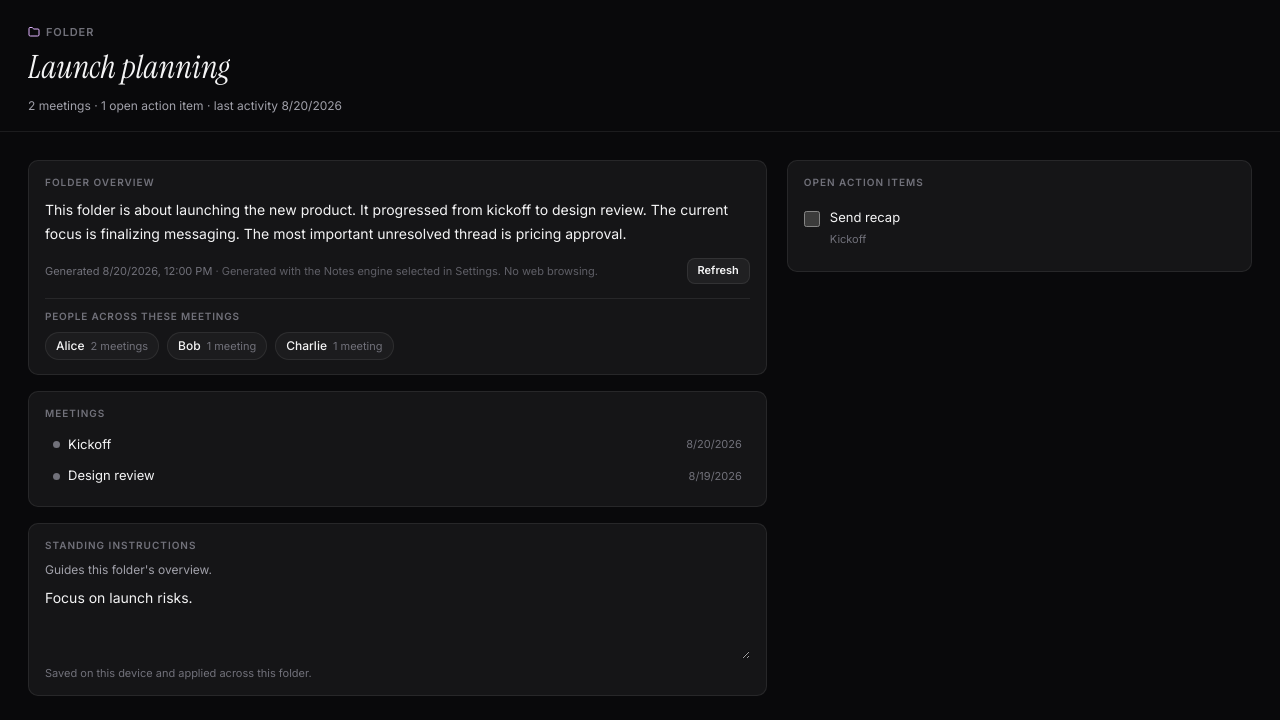
FolderView › shows only open action items and completes one from its checkbox
This screenshot has width=1280, height=720.
Check: the text "Send recap" is shown, box [830,209,900,225]
Click the checkbox named "Complete Send recap".
click(812, 219)  # box [804,211,820,227]
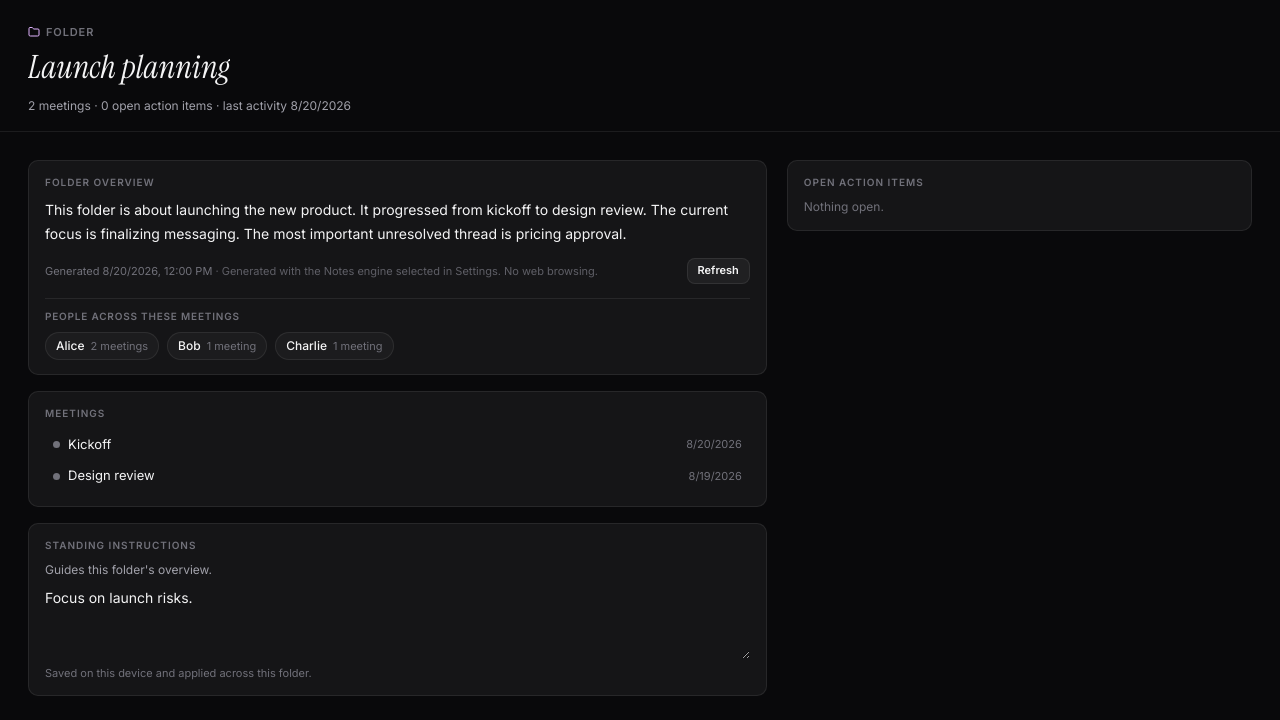
Check: the text "Send recap" is gone
